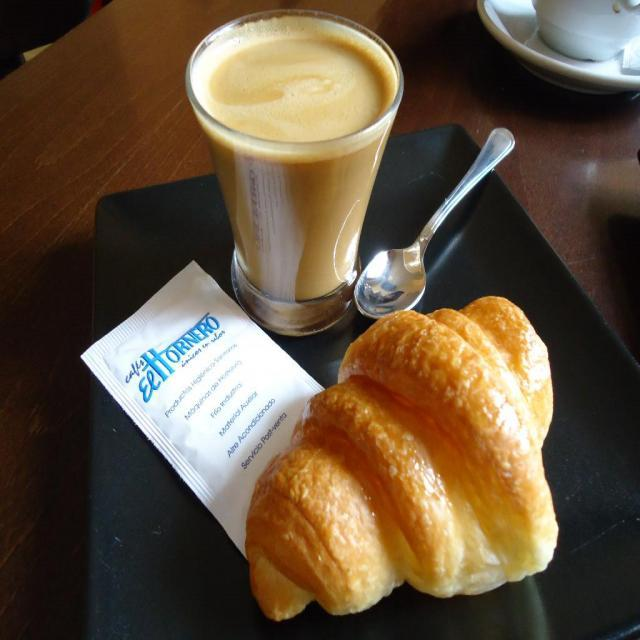Croissant: (243, 293, 561, 635)
